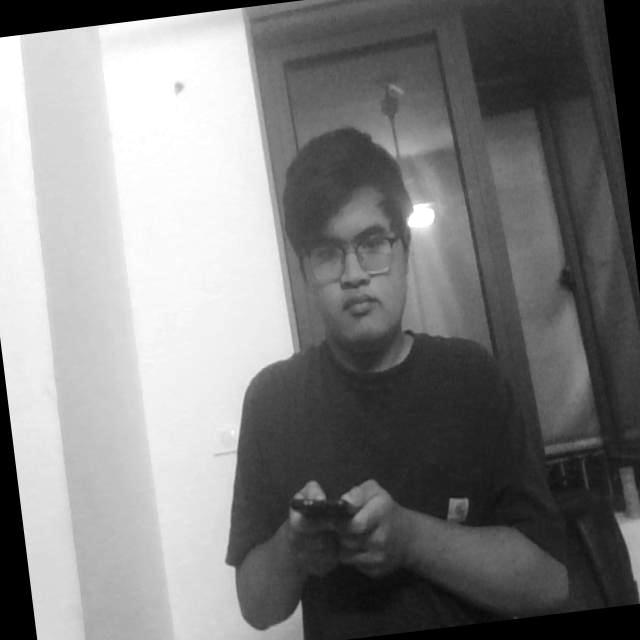phone: (280, 468, 386, 556)
